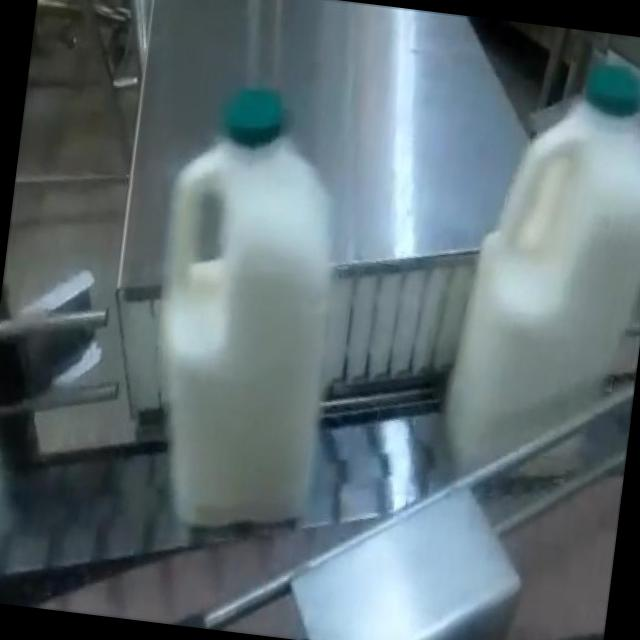milk: (108, 65, 365, 540), (432, 49, 640, 499)
